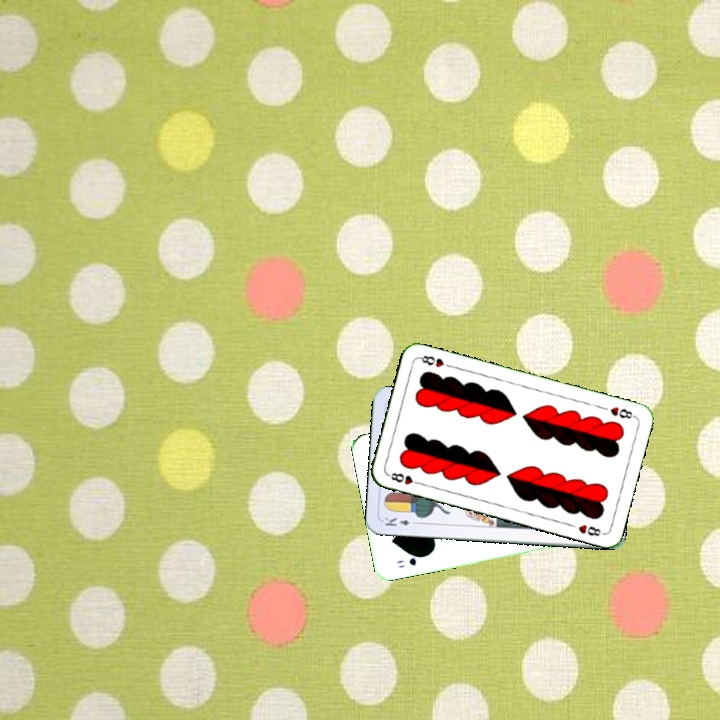EK: (380, 513, 421, 528)
GO: (392, 551, 428, 571)
H8: (384, 469, 424, 487), (606, 403, 638, 421)
